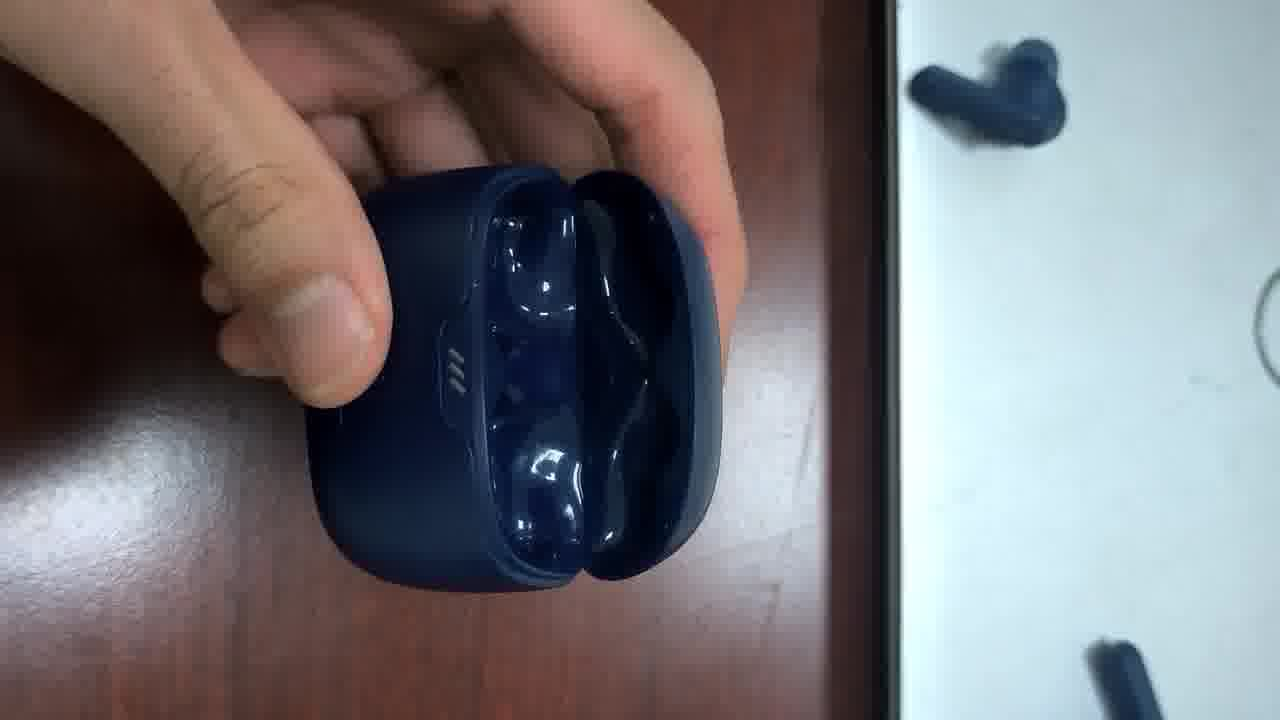Case: (305, 166, 720, 590)
Earbud: (907, 39, 1065, 146)
Empty_Slot: (489, 408, 585, 571), (489, 203, 576, 334)
